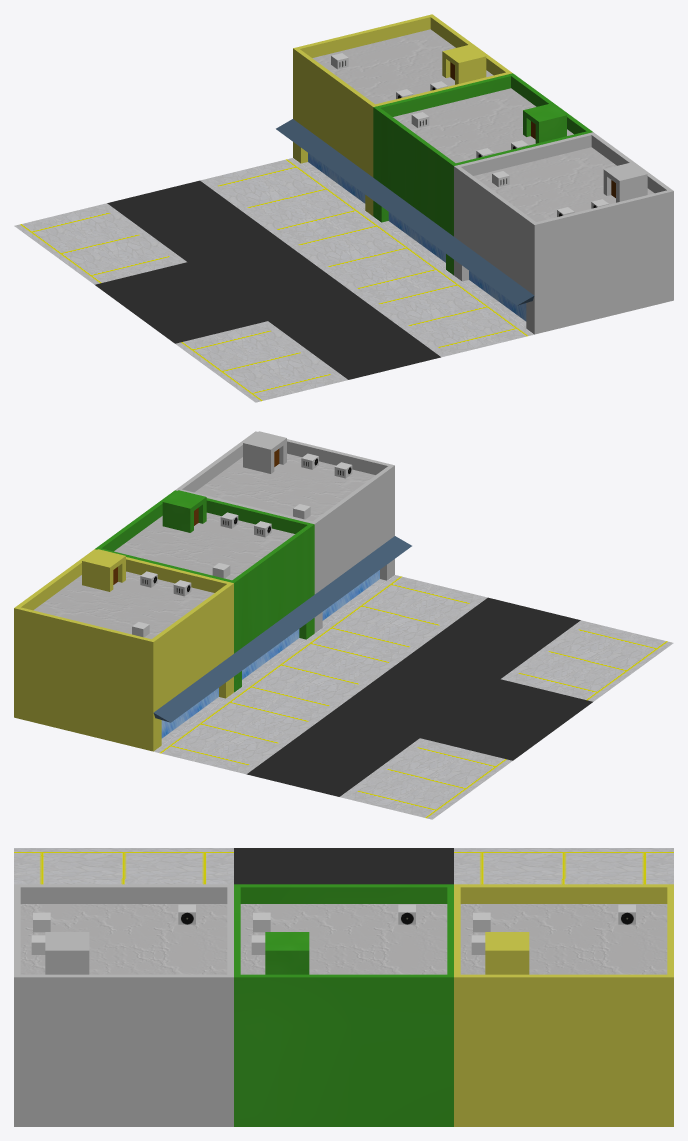
Rendered from LojaCidade.fbx.
3 views of the same model, one above another, from view 1: azimuth 30°, elevation 25°; view 2: azimuth 150°, elevation 25°; view 3: azimuth 270°, elevation 25° (orthographic). The views are drawn at different scales.
Visible parts, largest first — view 1: Loja; view 2: Loja; view 3: Loja.
Part boxes in pixels (left/top/right/bottom): Loja: left=14, top=14, right=673, bottom=402; Loja: left=14, top=431, right=673, bottom=819; Loja: left=14, top=848, right=673, bottom=1126.
Bounding box in the file's own units: 3600 × 3600 × 1001.
1 material, 1 textured.
